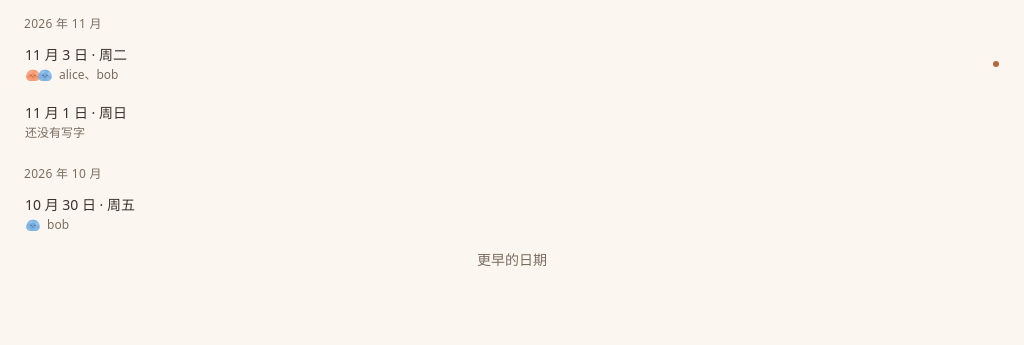
Test: DateIndex › [adr:digital-paper-interface#3] lists the dates by month with who wrote and the list’s unread, reading no diary
The width and height of the screenshot is (1024, 345).
Check: the headings read "2026 年 11 月", "2026 年 10 月", in this order, box [24,15,102,32]; [24,165,102,182]
Check: the list item "11 月 3 日 · 周二 alice、bob" is shown, box [12,36,1012,92]
Click the button "更早的日期" at (512, 260), box [12,242,1012,278]
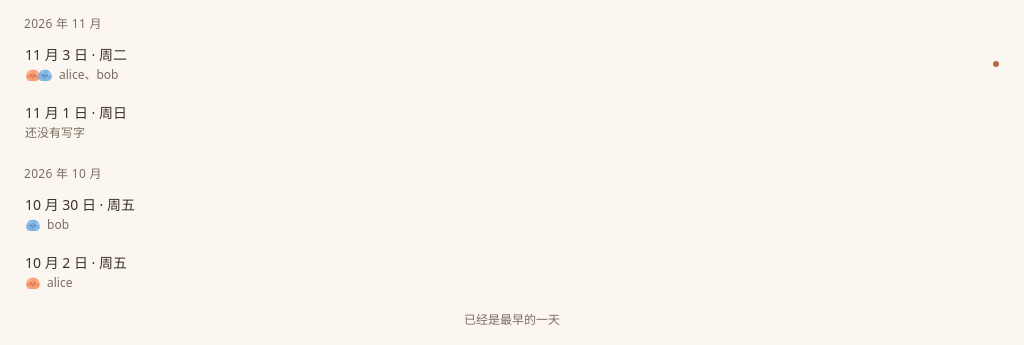
Check: the text "已经是最早的一天" is shown, box [464,311,560,328]
